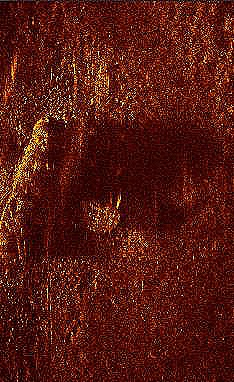aircraft: (1, 113, 122, 280)
